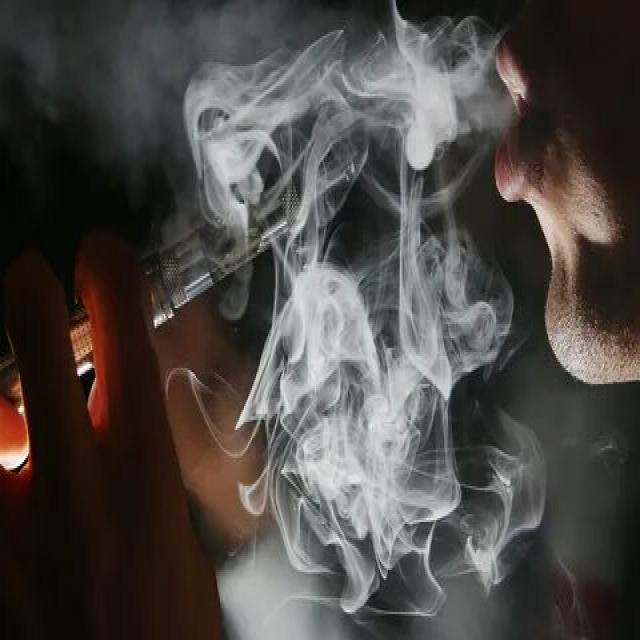smoke: (0, 126, 377, 426)
